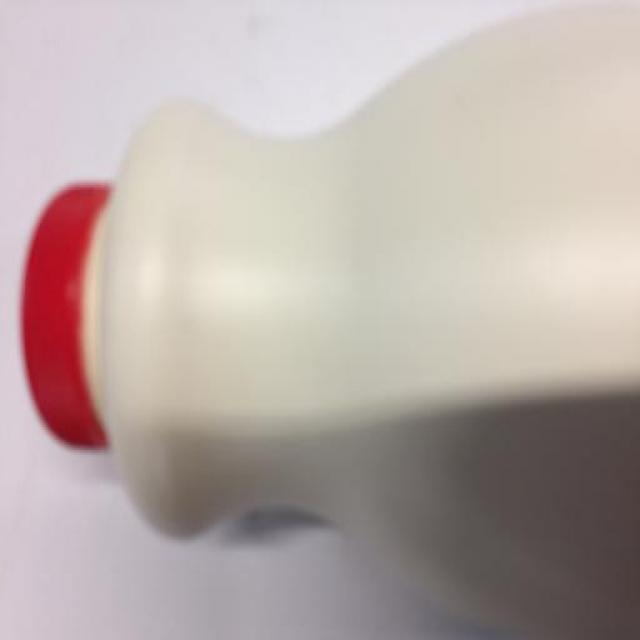plastic_bottle: (43, 56, 640, 593)
